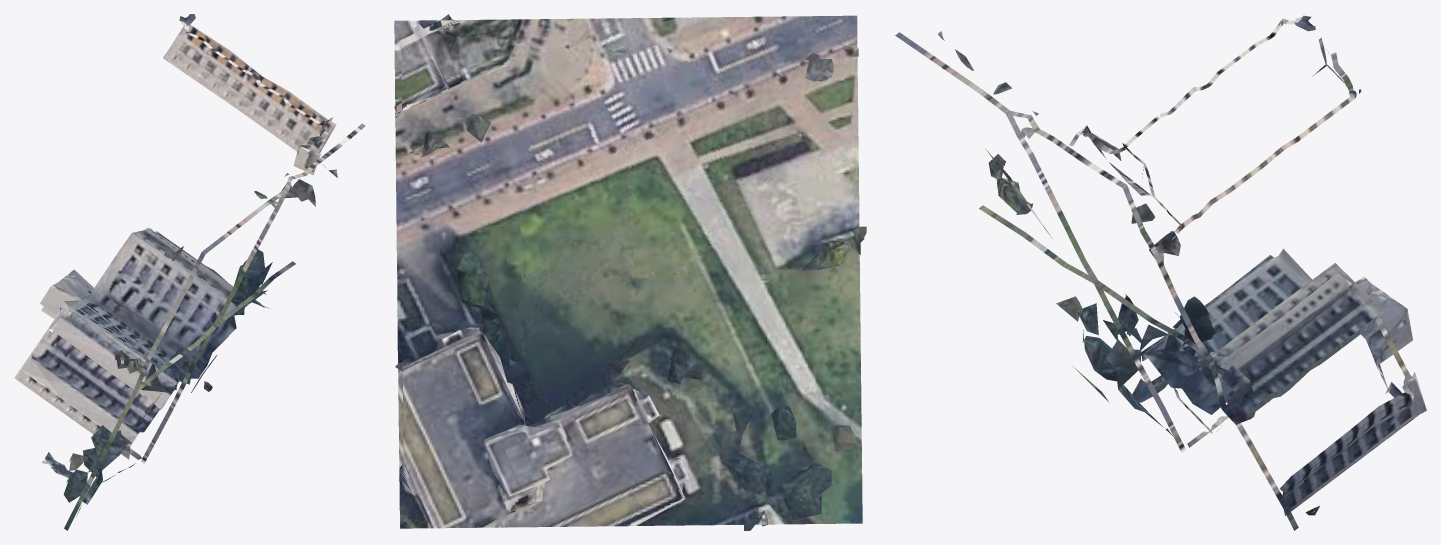
3 views of the same model, side by side, from view 1: azimuth 30°, elevation 25°; view 2: azimuth 150°, elevation 25°; view 3: azimuth 270°, elevation 25° (orthographic). The views are drawn at different scales.
Size of the model in its own units: 75.93 by 88.22 by 85.74.
Materials: 2 (2 with a texture image).
